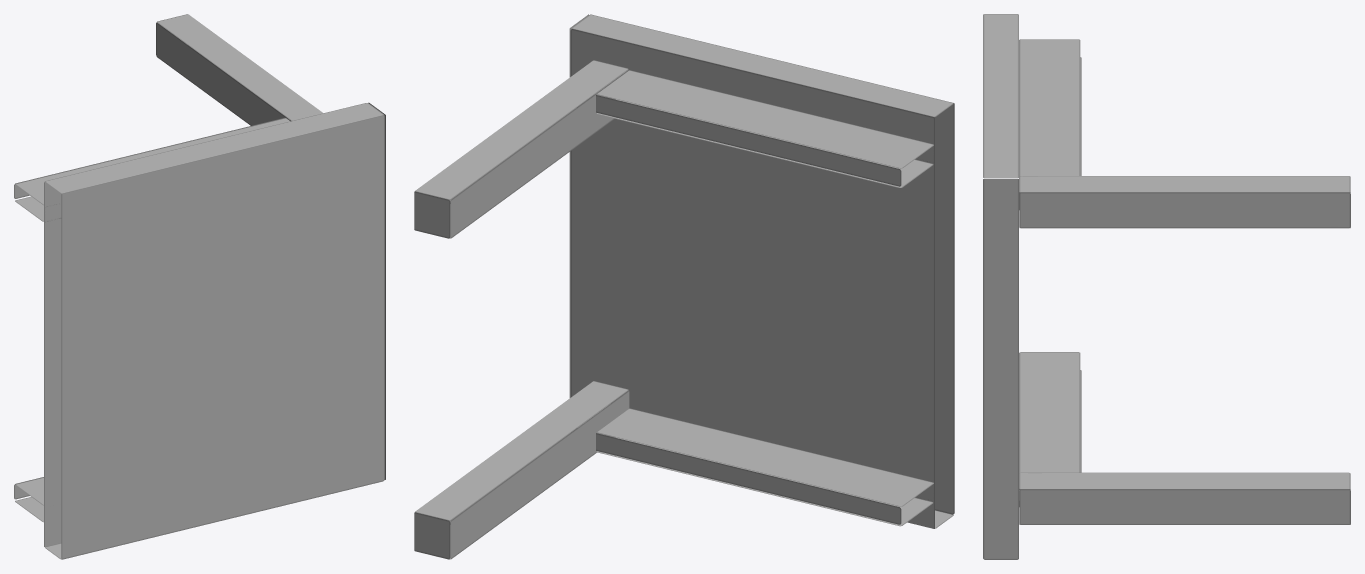
The model's file is pz_table_tables_high_02_long_oak_2_0.obj.
The picture shows the model from 3 angles, left to right: view 1: azimuth 30°, elevation 25°; view 2: azimuth 150°, elevation 25°; view 3: azimuth 270°, elevation 25°; orthographic projection. The views are drawn at different scales.
Bounding box in the file's own units: 0.8125 × 0.875 × 0.7655.
Materials: 1 (1 with a texture image).
